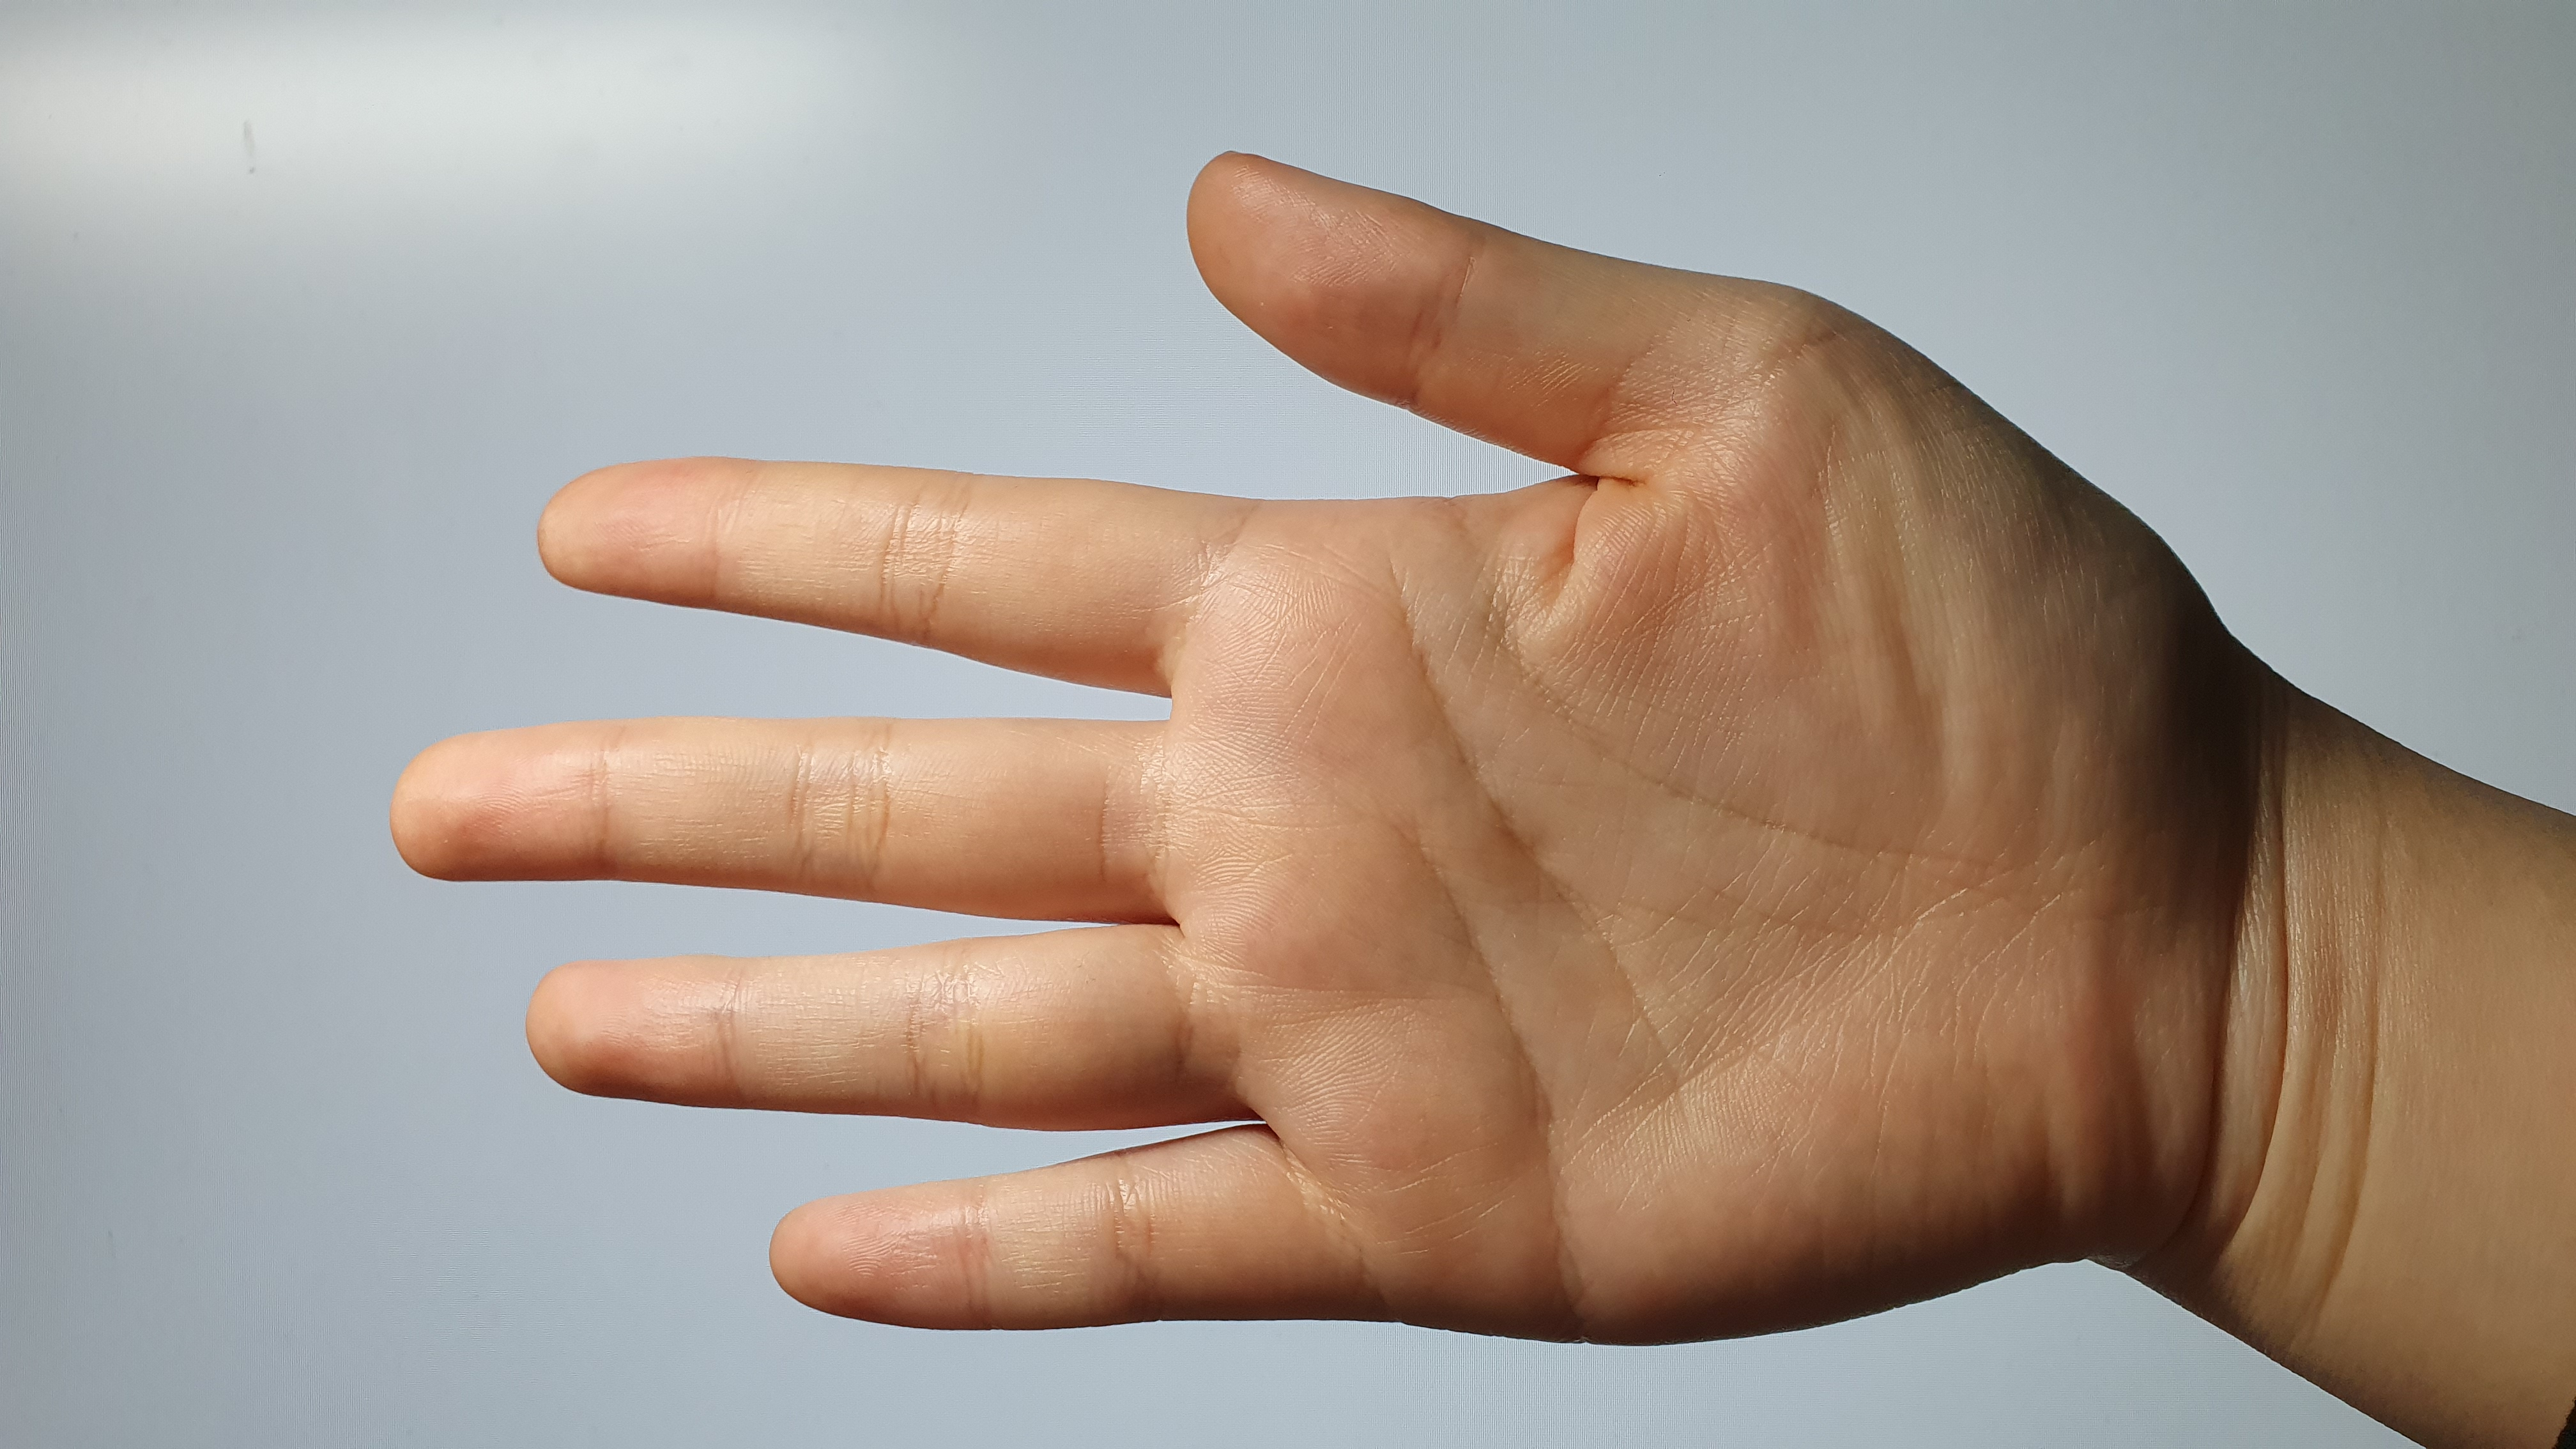hand: (373, 147, 2208, 1359)
index finger: (529, 455, 1219, 695)
middle finger: (368, 701, 1177, 939)
palm: (1168, 481, 2206, 1299)
pinky: (764, 1122, 1371, 1341)
ring finger: (522, 929, 1247, 1146)
thumb: (1159, 136, 1695, 504)
